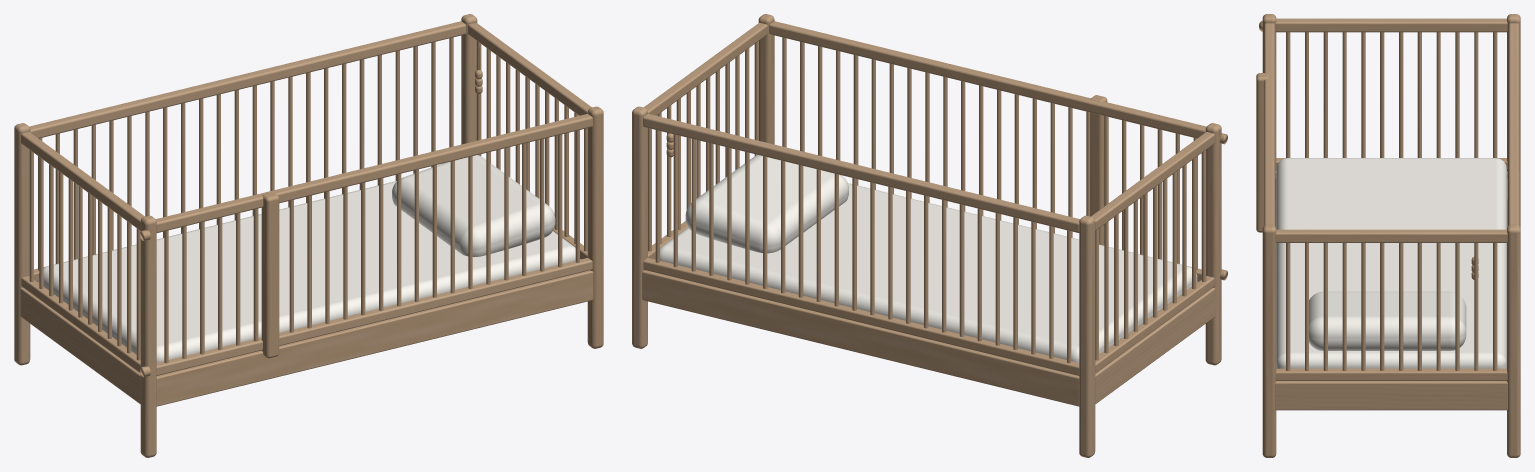
File: oak_baby_bed.glb
3 renders of one model, left to right at view 1: azimuth 30°, elevation 25°; view 2: azimuth 150°, elevation 25°; view 3: azimuth 270°, elevation 25°, orthographic. The views are drawn at different scales.
Visible parts, largest first — view 1: Ivory mattress, Long lower apron, Corner post (×4), Long upper guard rail (×2), Ivory pillow, Long lower guard rail, End upper guard rail (×2), End lower apron, Front gate stile, End lower guard rail, Long guard spindle 0.49 05, Long guard spindle -0.49 18 (+35 smaller); view 2: Ivory mattress, Long lower apron, Long upper guard rail (×2), Corner post (×4), Ivory pillow, Long lower guard rail, End upper guard rail (×2), End lower apron, End lower guard rail, Front gate stile, Long guard spindle -0.49 15, Long guard spindle -0.49 06 (+35 smaller); view 3: Ivory mattress, Corner post (×4), Ivory pillow, End lower apron, End upper guard rail (×2), Long upper guard rail (×2), End lower guard rail, Front gate stile, End spindle 1 01, End spindle 1 02, End spindle 1 03, End spindle 1 06 (+20 smaller).
Part boxes in pixels (x1=…): Ivory mattress: x1=38, y1=181, x2=575, y2=362; Long lower apron: x1=156, y1=270, x2=593, y2=406; Corner post (×4): x1=14, y1=14, x2=603, y2=457; Long upper guard rail (×2): x1=29, y1=21, x2=592, y2=232; Ivory pillow: x1=392, y1=155, x2=555, y2=256; Long lower guard rail: x1=156, y1=258, x2=592, y2=375; End upper guard rail (×2): x1=21, y1=23, x2=591, y2=230; End lower apron: x1=20, y1=288, x2=140, y2=404; Front gate stile: x1=261, y1=192, x2=279, y2=358; End lower guard rail: x1=21, y1=276, x2=140, y2=373; Long guard spindle 0.49 05: x1=253, y1=208, x2=258, y2=341; Long guard spindle -0.49 18: x1=359, y1=59, x2=364, y2=189; Ivory mattress: x1=660, y1=183, x2=1197, y2=362; Long lower apron: x1=642, y1=270, x2=1079, y2=406; Long upper guard rail (×2): x1=643, y1=21, x2=1206, y2=232; Corner post (×4): x1=632, y1=14, x2=1221, y2=457; Ivory pillow: x1=685, y1=154, x2=848, y2=253; Long lower guard rail: x1=643, y1=258, x2=1079, y2=375; End upper guard rail (×2): x1=644, y1=22, x2=1214, y2=230; End lower apron: x1=1095, y1=288, x2=1215, y2=403; End lower guard rail: x1=1095, y1=276, x2=1214, y2=372; Front gate stile: x1=1090, y1=95, x2=1107, y2=245; Long guard spindle -0.49 15: x1=798, y1=165, x2=803, y2=297; Long guard spindle -0.49 06: x1=959, y1=204, x2=964, y2=336; Ivory mattress: x1=1276, y1=158, x2=1506, y2=368; Corner post (×4): x1=1262, y1=14, x2=1520, y2=457; Ivory pillow: x1=1309, y1=291, x2=1466, y2=350; End lower apron: x1=1275, y1=381, x2=1507, y2=410; End upper guard rail (×2): x1=1275, y1=18, x2=1507, y2=242; Long upper guard rail (×2): x1=1264, y1=23, x2=1518, y2=225; End lower guard rail: x1=1275, y1=368, x2=1507, y2=380; Front gate stile: x1=1256, y1=73, x2=1268, y2=232; End spindle 1 01: x1=1474, y1=243, x2=1478, y2=370; End spindle 1 02: x1=1455, y1=243, x2=1459, y2=370; End spindle 1 03: x1=1436, y1=243, x2=1440, y2=370; End spindle 1 06: x1=1380, y1=243, x2=1384, y2=370.
Size of the model in its own units: 2.07 by 1.02 by 1.06.
